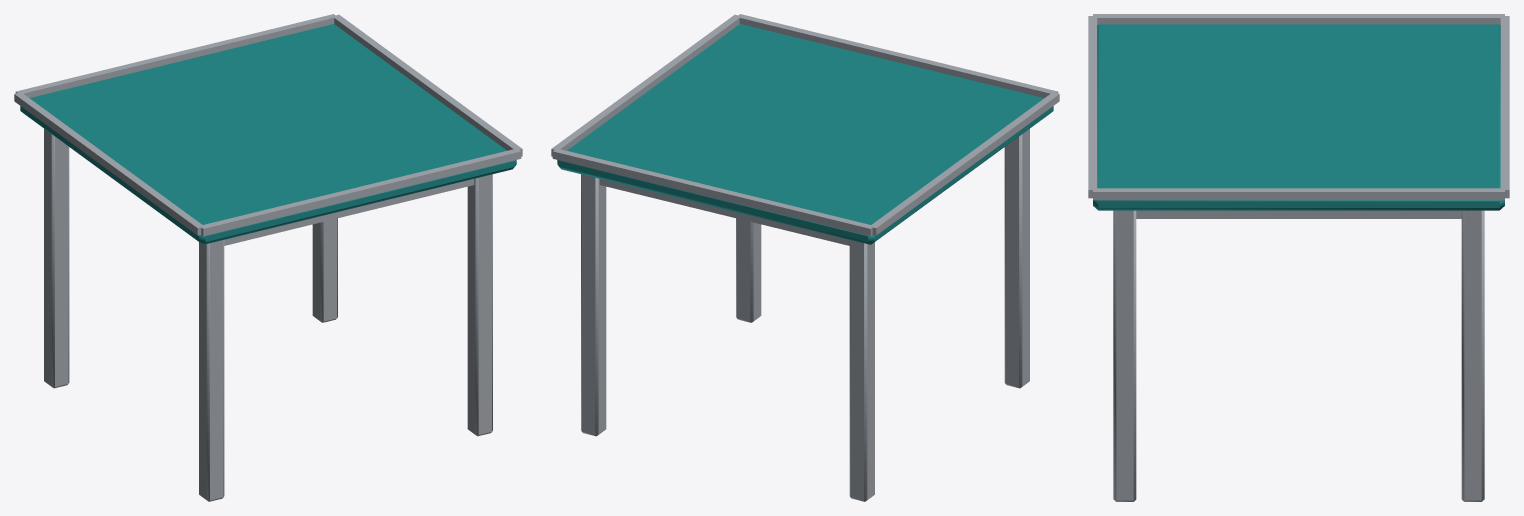
File: table_square_mess_table.glb
3 renders of one model, left to right at view 1: azimuth 30°, elevation 25°; view 2: azimuth 150°, elevation 25°; view 3: azimuth 270°, elevation 25°, orthographic. The views are drawn at different scales.
Visible parts, largest first — view 1: table_square_mess_table; view 2: table_square_mess_table; view 3: table_square_mess_table.
Part boxes in pixels (x1,y1,x2,y2): table_square_mess_table: (14, 14, 522, 501); table_square_mess_table: (551, 14, 1059, 501); table_square_mess_table: (1088, 14, 1509, 501).
Bounding box in the file's own units: 0.92 × 0.775 × 0.92.
